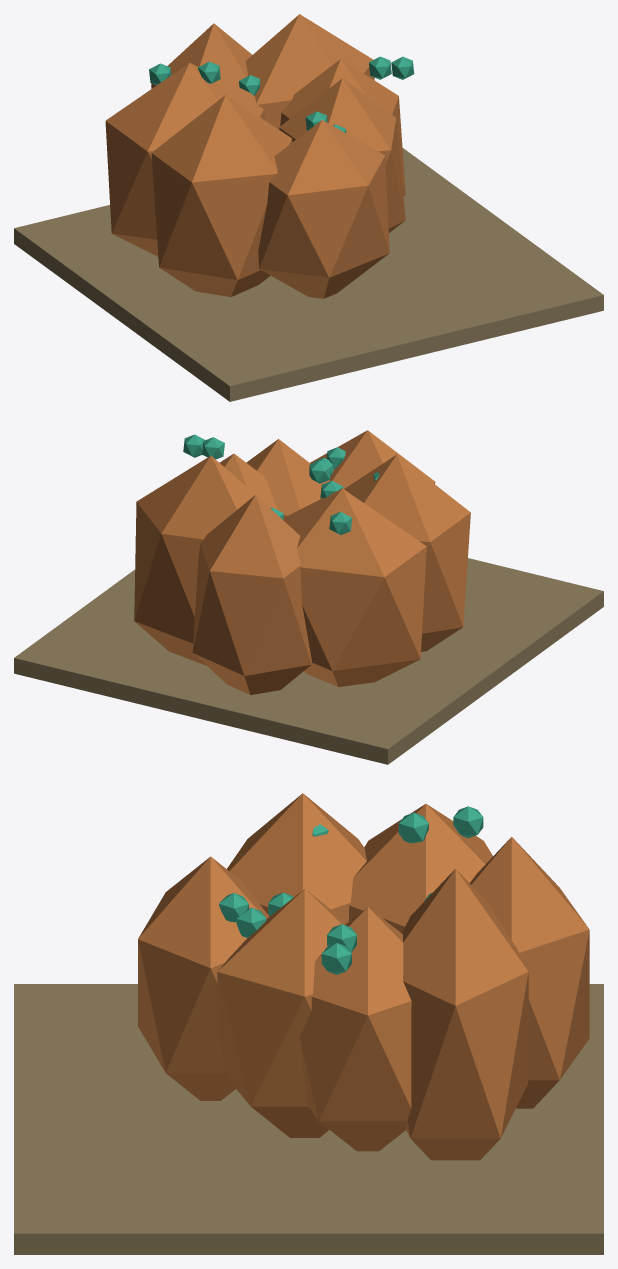
File: Deposit_Copper_Normal.fbx
3 renders of one model, top to bottom at view 1: azimuth 30°, elevation 25°; view 2: azimuth 150°, elevation 25°; view 3: azimuth 270°, elevation 25°, orthographic. The views are drawn at different scales.
Visible parts, largest first — view 1: Deposit_Copper_Normal_Body; view 2: Deposit_Copper_Normal_Body; view 3: Deposit_Copper_Normal_Body.
Boxes of the visible parts, x1,y1,x2,y2 form: Deposit_Copper_Normal_Body: (14, 14, 603, 401); Deposit_Copper_Normal_Body: (14, 430, 603, 764); Deposit_Copper_Normal_Body: (14, 793, 603, 1254).
Bounding box in the file's own units: 1 × 0.5942 × 1.
